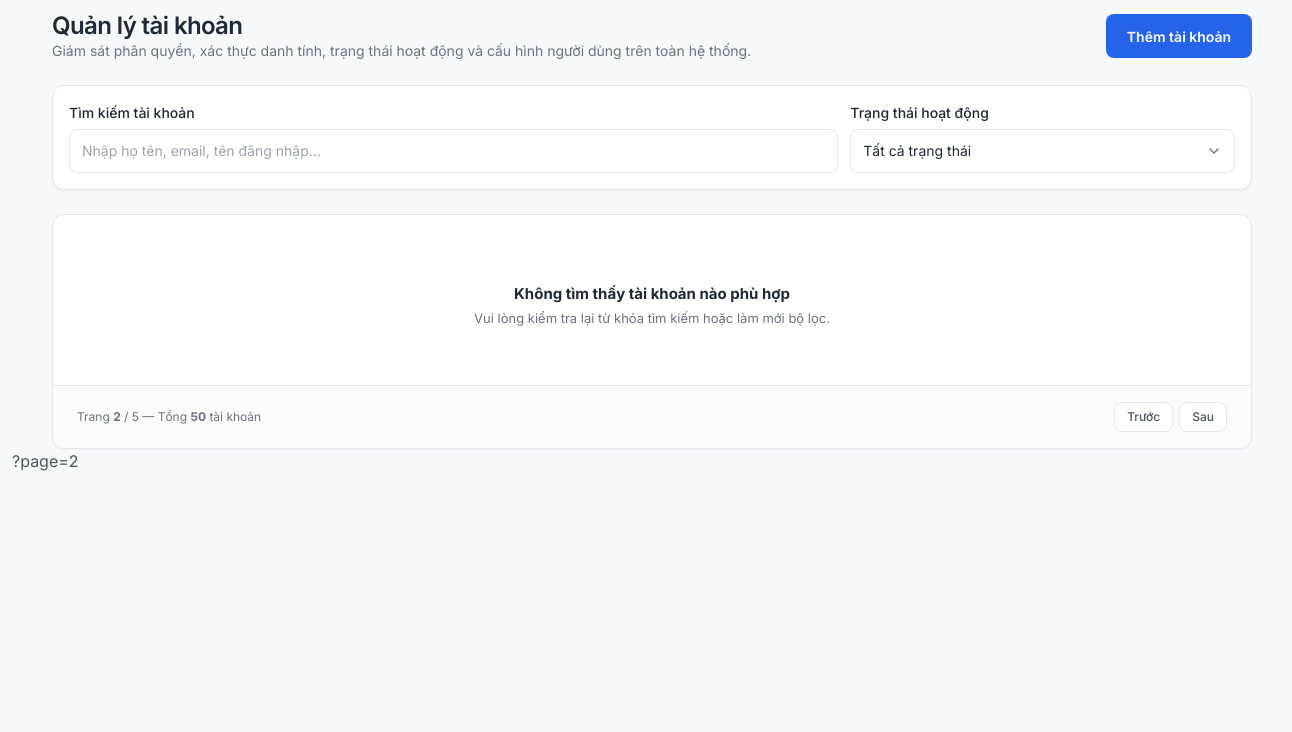
Test: AdminAccountsPage filters live in the URL › typing in the search box reaches the URL after a pause
In the field with placeholder "Nhập họ tên, email, tên đăng nhập...": (454, 151) [69,129,838,173], type "nam"
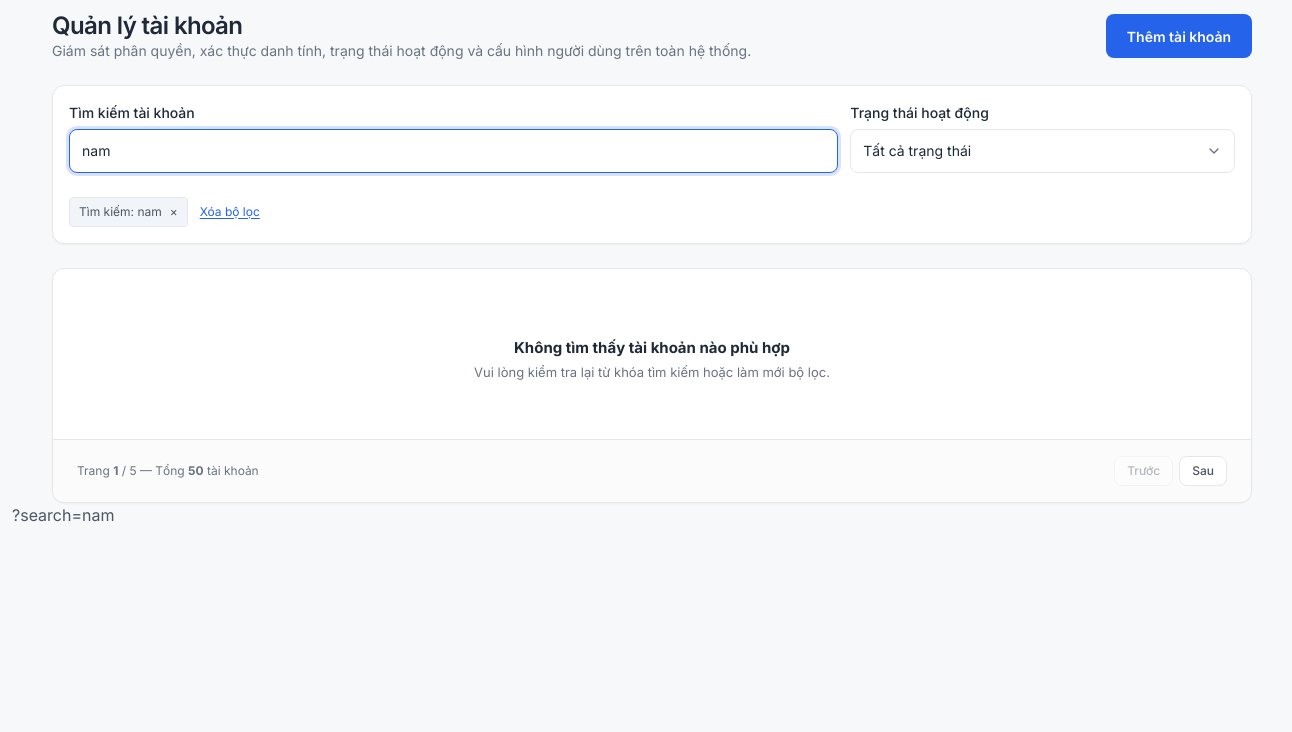
Check: the text with test id "search" shows "search=nam", box [12,505,114,525]
Check: the text with test id "search" no longer shows "page=", box [12,505,114,525]
